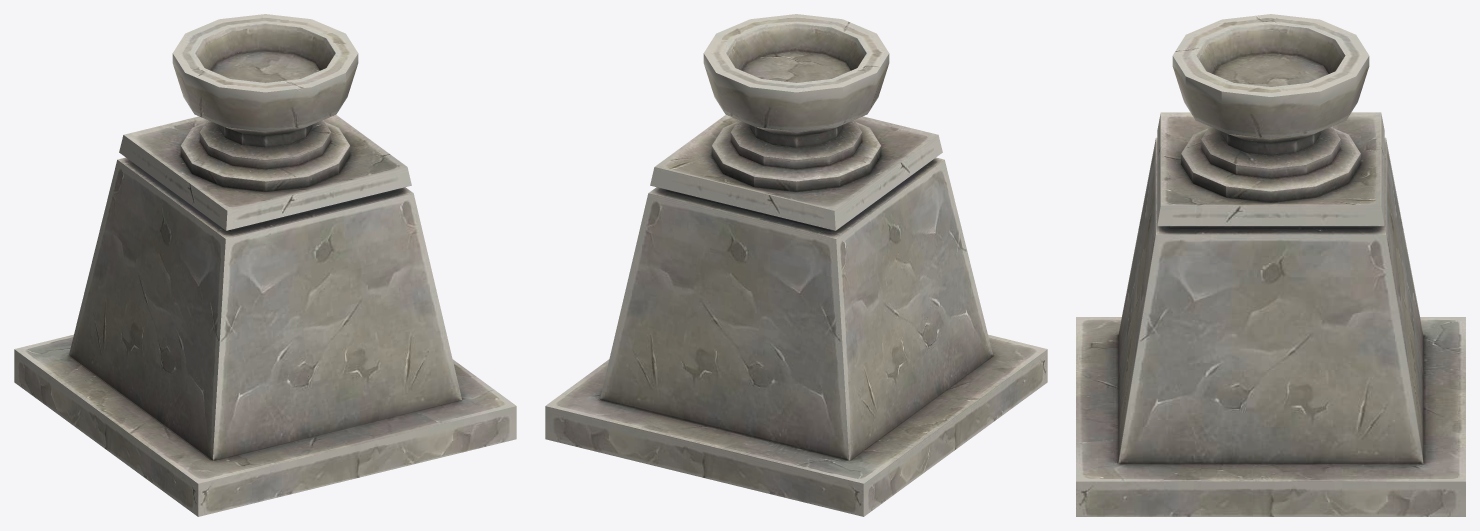
The model's file is altar.glb.
3 renders of one model, left to right at view 1: azimuth 30°, elevation 25°; view 2: azimuth 150°, elevation 25°; view 3: azimuth 270°, elevation 25°, orthographic. The views are drawn at different scales.
Parts seen in each view (by area): view 1: Object_2; view 2: Object_2; view 3: Object_2.
Boxes of the visible parts, <box> form: Object_2: <box>14,14,516,516</box>; Object_2: <box>545,14,1047,516</box>; Object_2: <box>1076,14,1465,516</box>.
Bounding box in the file's own units: 1.2 × 1.29 × 1.2.
Materials: 1 (1 with a texture image).
